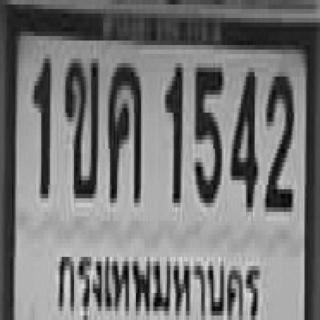A02: (64, 54, 98, 194)
A04: (107, 59, 139, 198)
N01: (31, 54, 50, 194), (163, 59, 181, 198)
N02: (263, 68, 292, 207)
N04: (229, 63, 256, 207)
N05: (193, 63, 222, 203)
P04: (51, 242, 265, 320)
